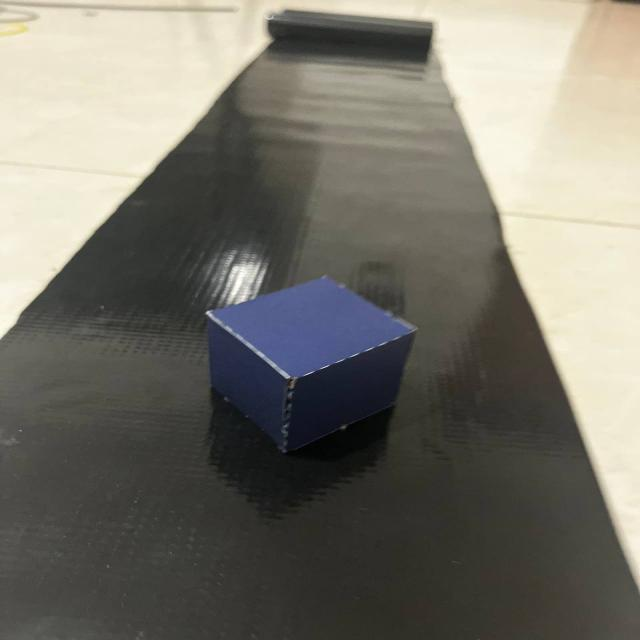Azul: (188, 262, 443, 475)
